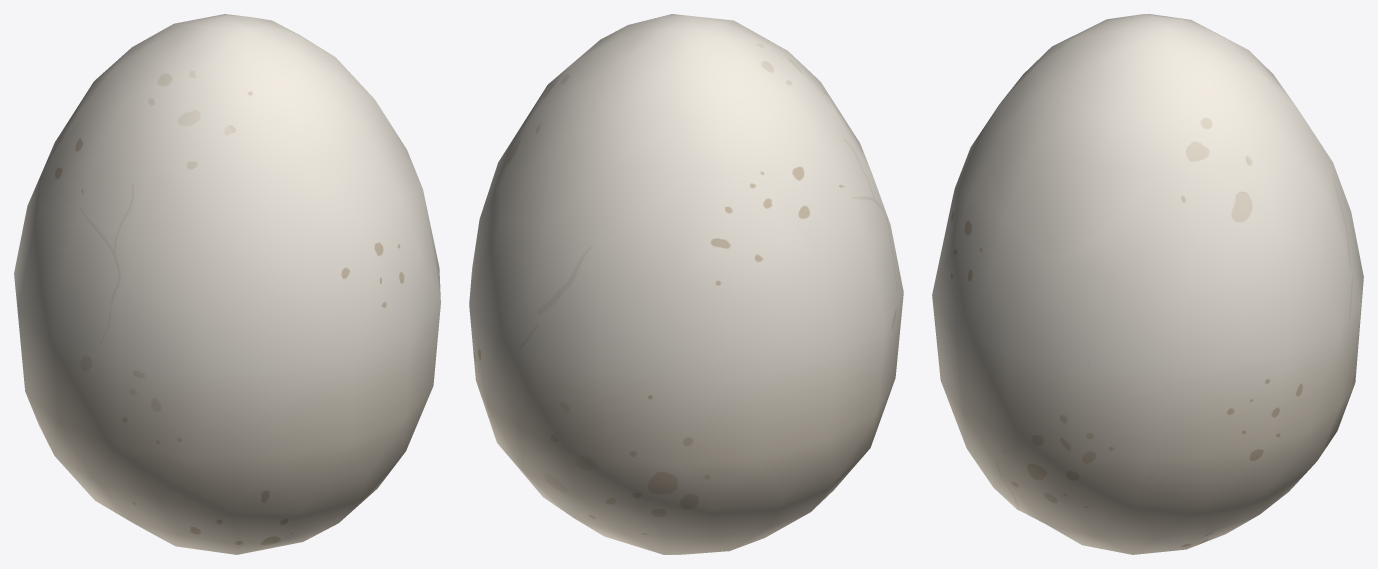
The model's file is adelieEgg00.fbx.
The picture shows the model from 3 angles, left to right: view 1: azimuth 30°, elevation 25°; view 2: azimuth 150°, elevation 25°; view 3: azimuth 270°, elevation 25°; orthographic projection.
Visible parts, largest first — view 1: adelieEgg.001; view 2: adelieEgg.001; view 3: adelieEgg.001.
Boxes of the visible parts, x1,y1,x2,y2 form: adelieEgg.001: [14, 14, 440, 554]; adelieEgg.001: [469, 14, 903, 554]; adelieEgg.001: [932, 14, 1363, 554].
Size of the model in its own units: 0.095 by 0.1242 by 0.095.
